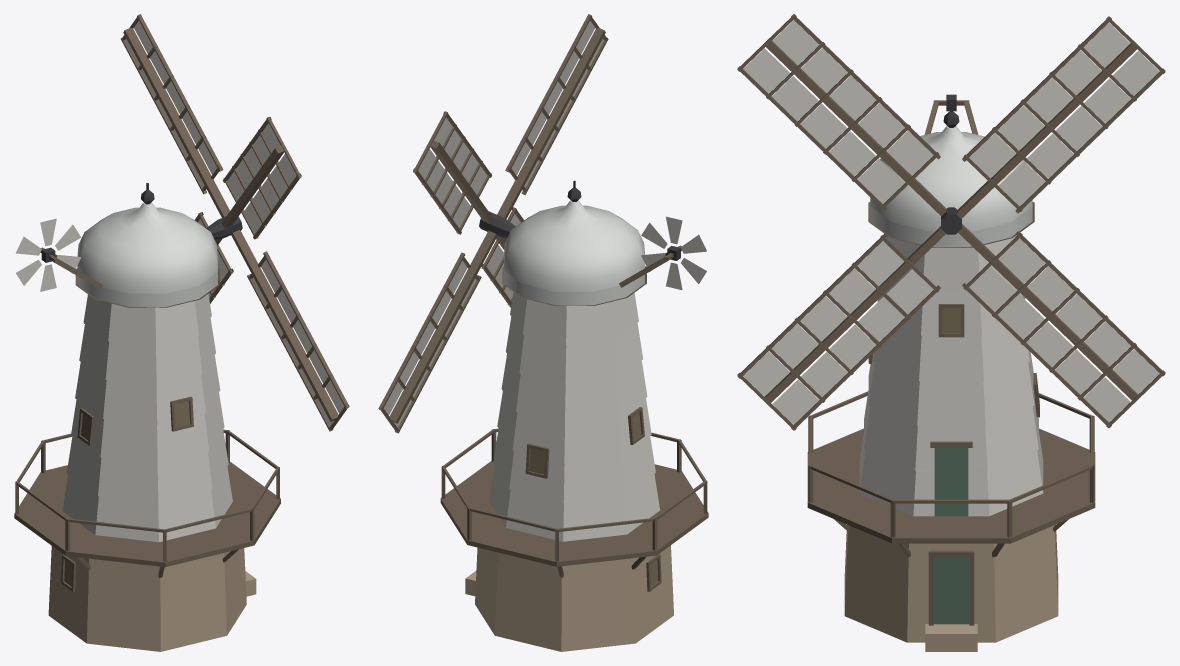
File: windmill_b.glb
3 renders of one model, left to right at view 1: azimuth 30°, elevation 25°; view 2: azimuth 150°, elevation 25°; view 3: azimuth 270°, elevation 25°, orthographic. The views are drawn at different scales.
Visible parts, largest first — view 1: windmill_b_lod0, windmill_b_rotor_lod0; view 2: windmill_b_lod0, windmill_b_rotor_lod0; view 3: windmill_b_lod0, windmill_b_rotor_lod0.
Boxes of the visible parts, x1=… form: windmill_b_lod0: x1=14, y1=183, x2=280, y2=651; windmill_b_rotor_lod0: x1=121, y1=14, x2=349, y2=431; windmill_b_lod0: x1=440, y1=180, x2=708, y2=651; windmill_b_rotor_lod0: x1=378, y1=14, x2=608, y2=433; windmill_b_lod0: x1=807, y1=94, x2=1095, y2=651; windmill_b_rotor_lod0: x1=737, y1=14, x2=1165, y2=430.
Size of what is drawn, in the model's own units: 7.9 by 16.12 by 10.18.
